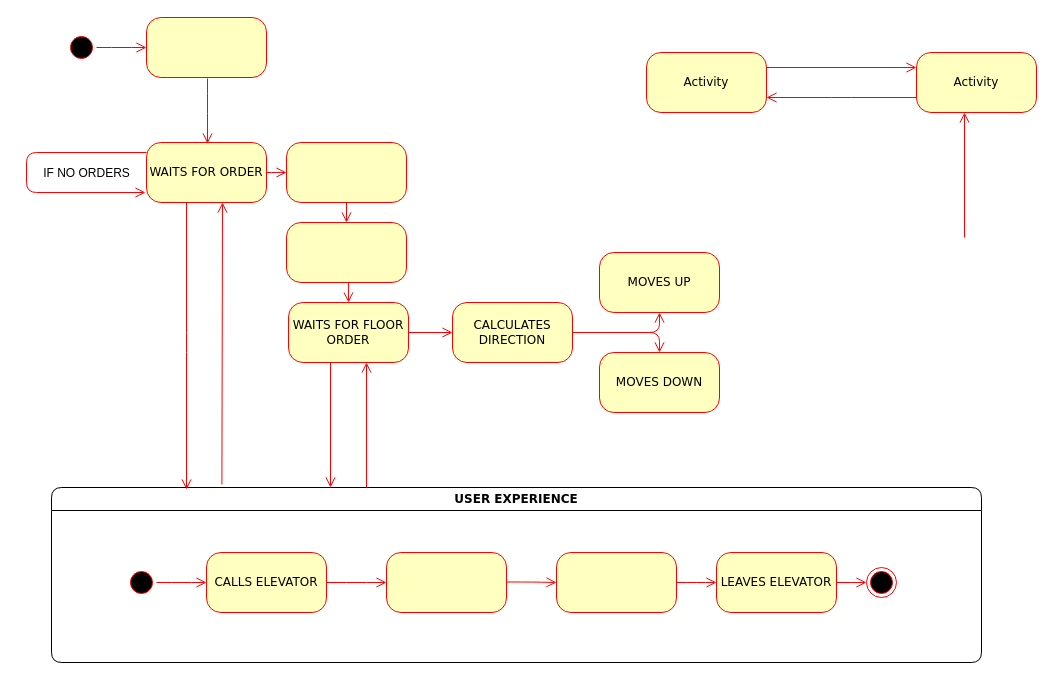
This 1054x680 diagram has some shape labels left out. The shapes that lost their labels are listed below. From the top down, each one's centre as x and y in pixels, then its label:
At pixel 206 47: "ELEVATOR INITIALIZES".
At pixel 346 172: "MOVES TO USER".
At pixel 346 252: "OPENS DOOR".
At pixel 446 582: "ENTERS ELEVATOR".
At pixel 616 582: "REQUESTS FLOOR".
